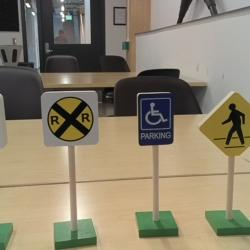handicap_parking: (137, 92, 174, 146)
pedestrian_crossing: (199, 91, 250, 156)
railroad_crossing: (41, 91, 100, 147)
